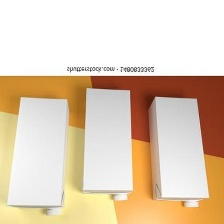carton: (5, 89, 71, 218), (144, 91, 211, 209), (78, 83, 135, 204)
